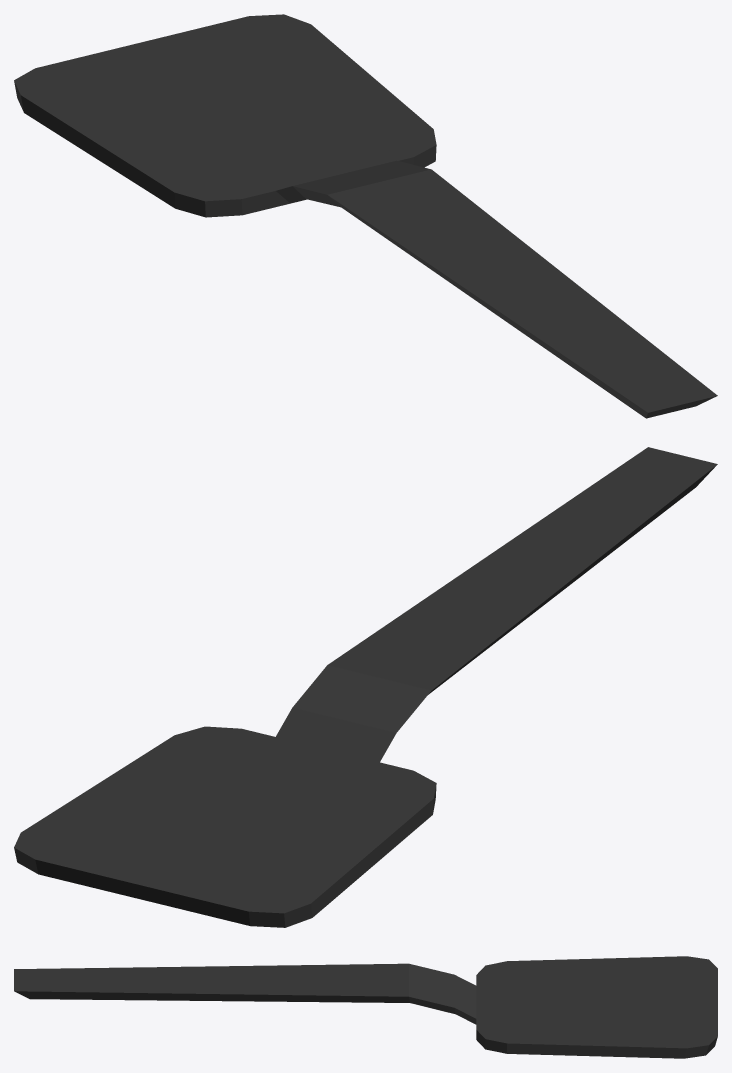
The model's file is spatula.glb.
The picture shows the model from 3 angles, top to bottom: view 1: azimuth 30°, elevation 25°; view 2: azimuth 150°, elevation 25°; view 3: azimuth 270°, elevation 25°; orthographic projection. The views are drawn at different scales.
Parts seen in each view (by area): view 1: Simple Spatula; view 2: Simple Spatula; view 3: Simple Spatula.
Boxes of the visible parts, bbox=[...] form: Simple Spatula: bbox=[14, 14, 717, 418]; Simple Spatula: bbox=[14, 447, 717, 927]; Simple Spatula: bbox=[14, 956, 717, 1058].
Size of the model in its own units: 0.0587 by 0.00973 by 0.1895.
1 material, 1 textured.
